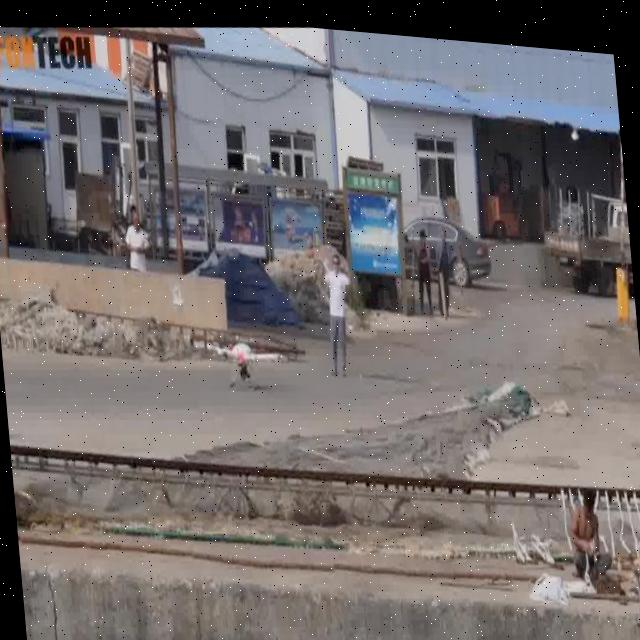drone: (204, 324, 286, 391)
